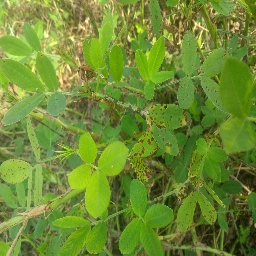GroundNut_Leaf: (220, 58, 253, 122), (1, 95, 45, 128), (142, 37, 166, 92), (190, 137, 218, 181), (85, 173, 111, 219), (201, 50, 220, 106), (176, 189, 199, 233), (2, 61, 34, 92), (144, 131, 180, 158), (118, 221, 146, 255), (99, 140, 128, 172), (223, 125, 256, 153), (1, 158, 33, 186), (64, 222, 90, 255), (36, 52, 58, 90), (84, 39, 106, 75), (152, 104, 186, 127), (182, 30, 198, 77), (1, 36, 32, 57), (130, 179, 146, 218), (91, 224, 110, 256), (202, 187, 217, 226), (78, 130, 97, 159), (148, 204, 174, 225), (48, 92, 69, 118), (110, 46, 123, 84), (121, 116, 141, 139), (70, 162, 84, 189), (177, 80, 194, 102), (220, 180, 244, 194), (101, 11, 113, 37)
